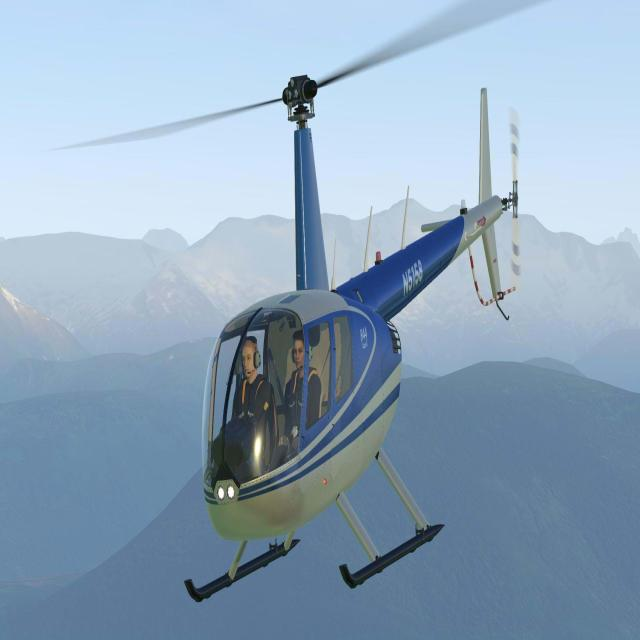CIV_HELO: (181, 69, 514, 602)
